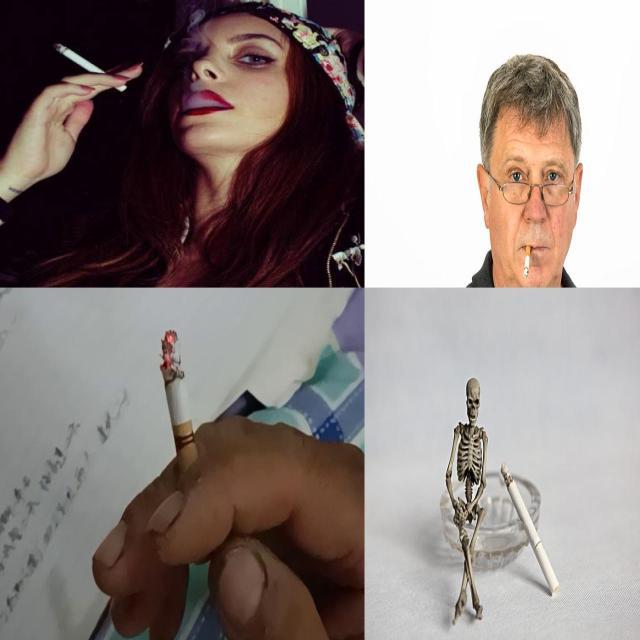smoking: (500, 461, 560, 597), (161, 328, 203, 504), (45, 40, 127, 94), (522, 240, 534, 283)
